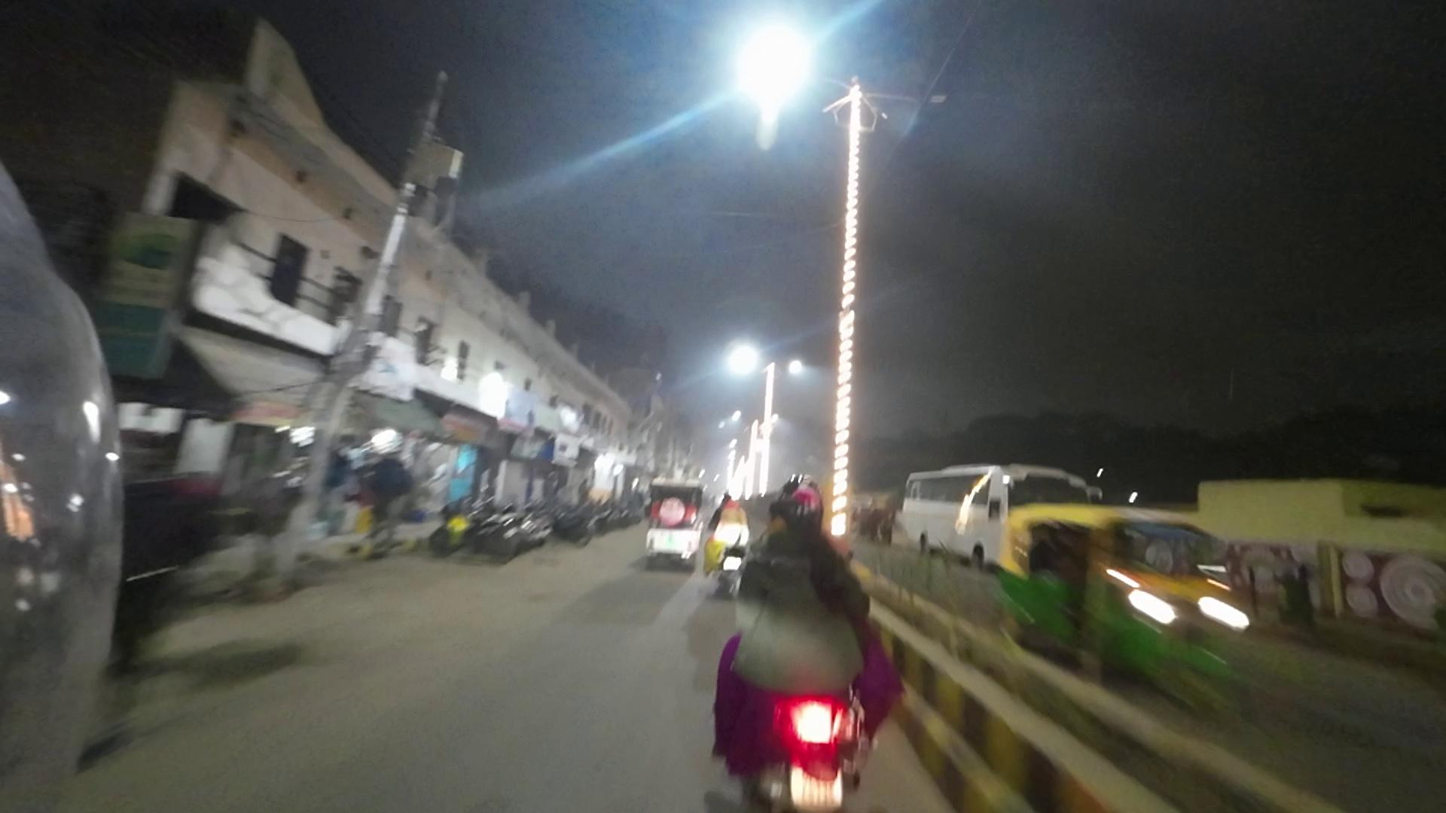streetlight: (873, 83, 949, 111)
